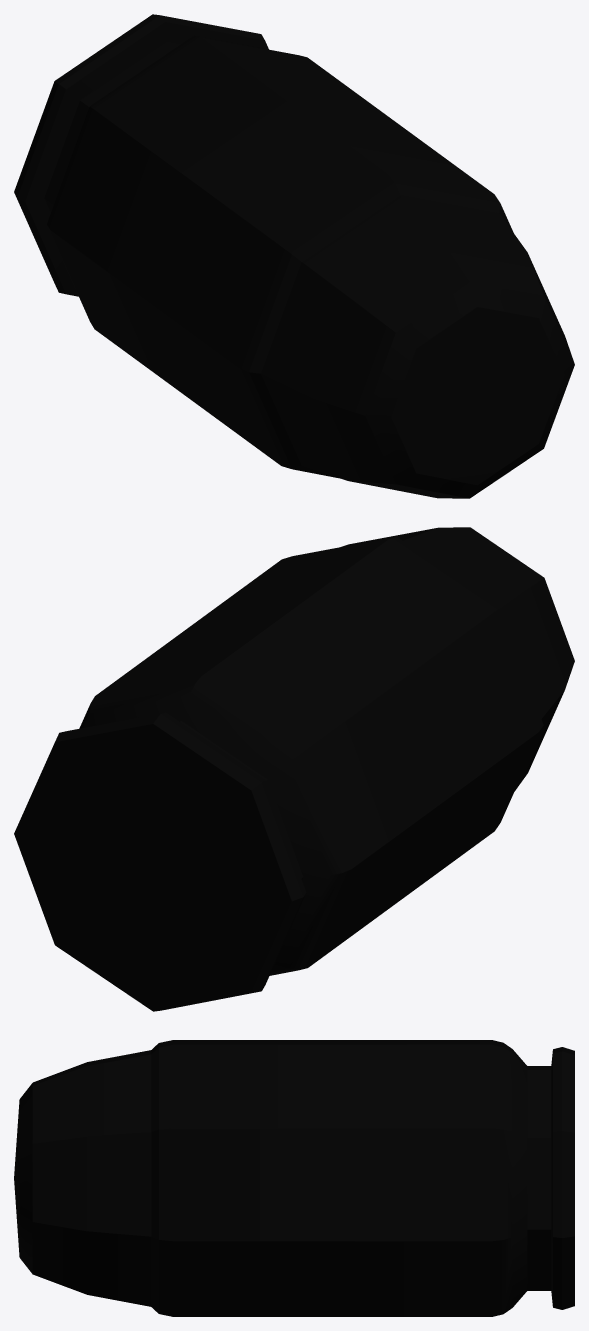
The model's file is MP5_Bullet.fbx.
3 views of the same model, one above another, from view 1: azimuth 30°, elevation 25°; view 2: azimuth 150°, elevation 25°; view 3: azimuth 270°, elevation 25° (orthographic). The views are drawn at different scales.
Visible parts, largest first — view 1: Bullet; view 2: Bullet; view 3: Bullet.
Boxes of the visible parts, x1,y1,x2,y2 form: Bullet: (14, 14, 574, 498); Bullet: (14, 527, 574, 1011); Bullet: (14, 1040, 574, 1316).
Size of the model in its own units: 0.0558 by 0.0296 by 0.0293.
